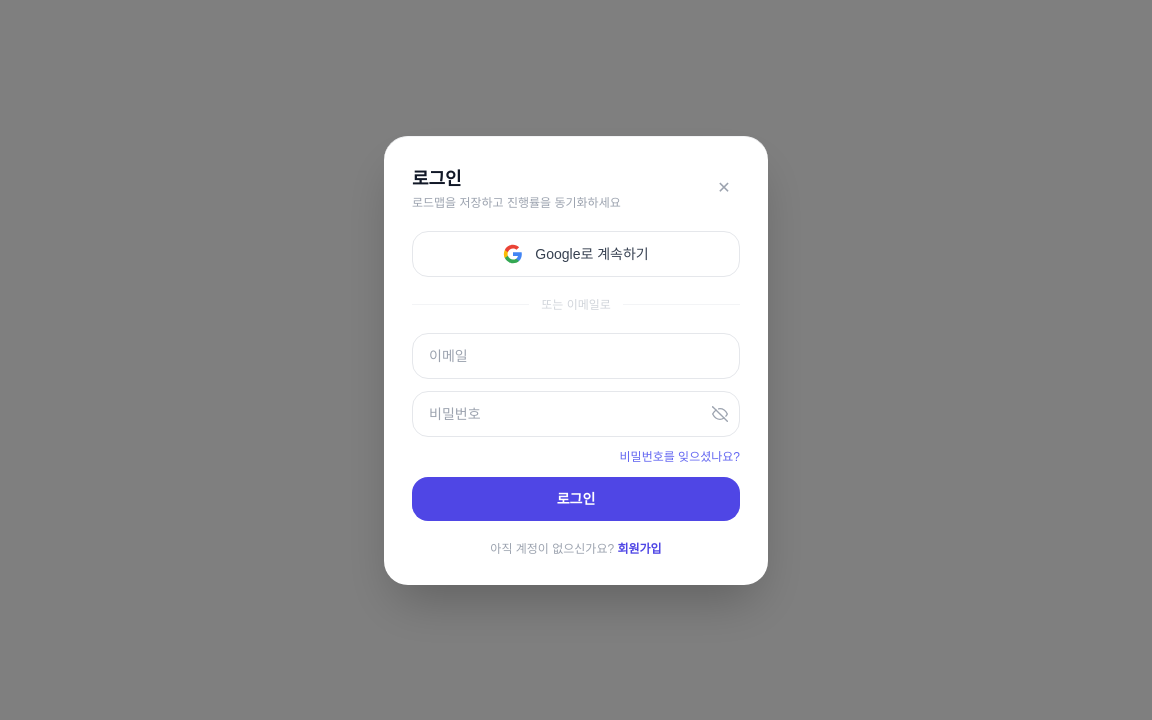
Scenario: AuthModal forgot mode › switches to forgot mode when link clicked
Click the button "비밀번호를 잊으셨나요?".
click(680, 456)  # box x1=620 y1=448 x2=740 y2=464
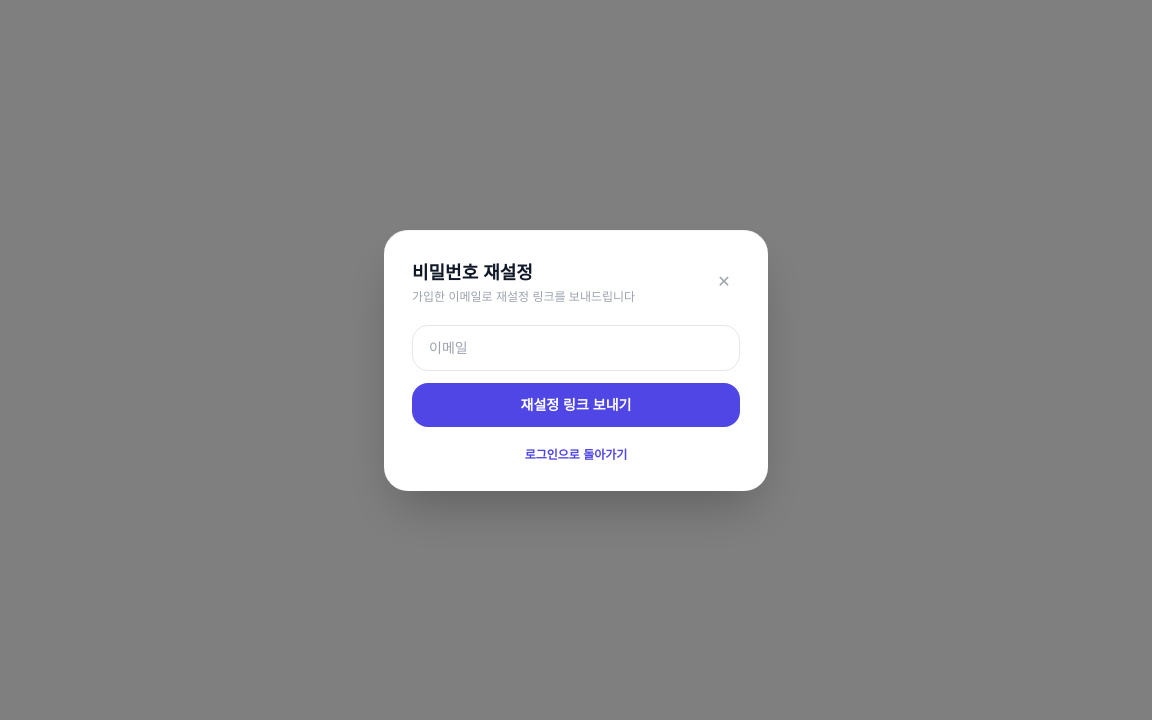
Expected: the field with placeholder "이메일" is shown, x1=412 y1=324 x2=740 y2=370
Result: the heading "비밀번호 재설정" is shown at x1=412 y1=262 x2=533 y2=282
Result: the button "재설정 링크 보내기" is shown at x1=412 y1=382 x2=740 y2=426
